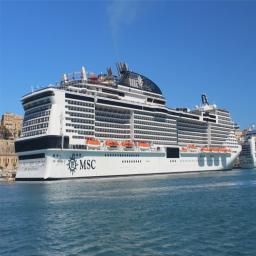cruises: (14, 61, 245, 186)
